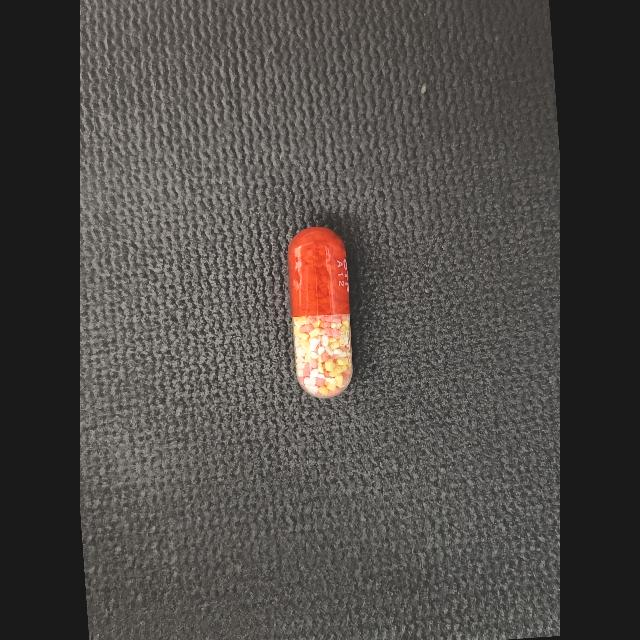Intact Capsule: (288, 227, 353, 399)
